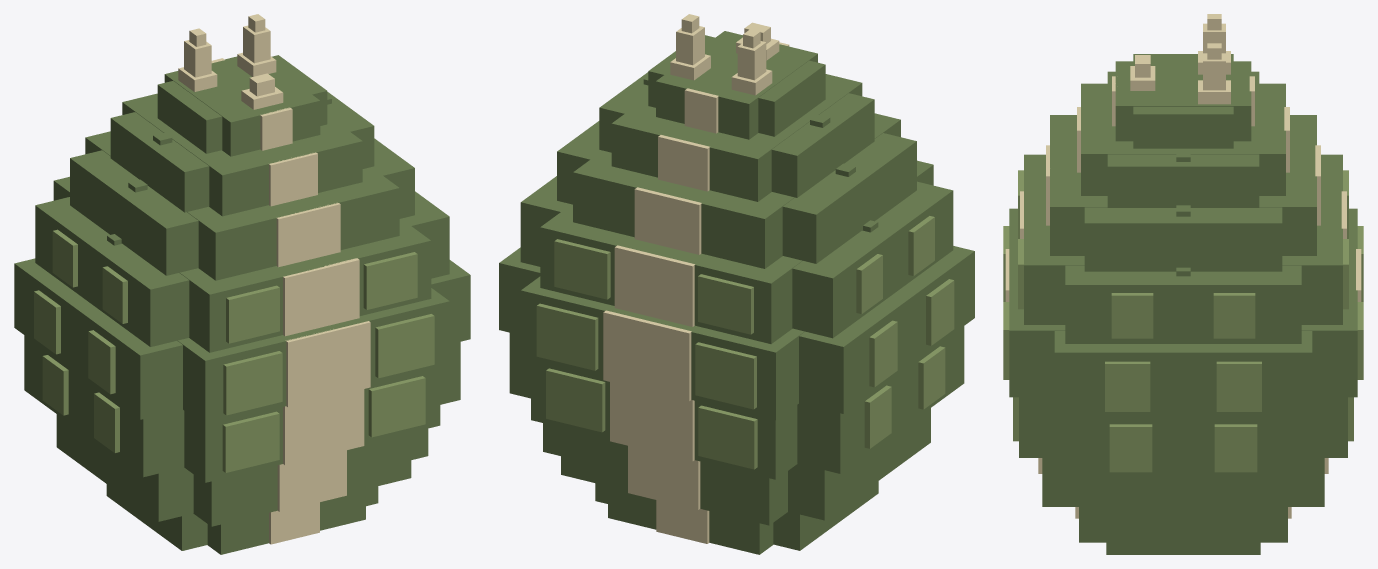
Rendered from TriceratopsEgg.fbx.
The picture shows the model from 3 angles, left to right: view 1: azimuth 30°, elevation 25°; view 2: azimuth 150°, elevation 25°; view 3: azimuth 270°, elevation 25°; orthographic projection. The views are drawn at different scales.
Parts seen in each view (by area): view 1: ShellWide3, ShellWide4, ShellWide5, Shell5, Shell4, Shell6, Shell3, ShellWide2, ShellWide6, Shell1, Shell7, ShellWide1 (+29 smaller); view 2: ShellWide3, ShellWide4, ShellWide5, Shell5, Shell4, Shell6, Shell3, ShellWide2, ShellWide6, Shell1, Belly3_-1, Shell7 (+28 smaller); view 3: ShellWide3, ShellWide4, ShellWide5, ShellWide2, Shell4, ShellWide1, Shell5, Shell3, ShellWide6, Shell6, Shell7, Shell2 (+16 smaller).
Boxes of the visible parts, box(x1,y1,x2,y2) form: ShellWide3: box(14, 258, 470, 419); ShellWide4: box(35, 191, 449, 346); ShellWide5: box(70, 138, 414, 275); Shell5: box(85, 131, 399, 280); Shell4: box(53, 176, 431, 352); Shell6: box(122, 93, 362, 216); Shell3: box(177, 288, 449, 425); ShellWide2: box(24, 335, 460, 477); ShellWide6: box(110, 92, 374, 212); Shell1: box(193, 433, 411, 526); Shell7: box(164, 56, 320, 156); ShellWide1: box(56, 414, 428, 521); ShellWide3: box(499, 246, 974, 413); ShellWide4: box(520, 176, 953, 338); ShellWide5: box(557, 121, 916, 263); Shell5: box(573, 113, 900, 268); Shell4: box(540, 160, 933, 343); Shell6: box(611, 74, 862, 201); Shell3: box(521, 276, 804, 420); ShellWide2: box(509, 326, 964, 473); ShellWide6: box(599, 72, 874, 197); Shell1: box(561, 427, 787, 525); Belly3_-1: box(603, 310, 691, 401); Shell7: box(656, 31, 817, 139); ShellWide3: box(1054, 331, 1312, 418); ShellWide4: box(1065, 265, 1301, 343); ShellWide5: box(1084, 207, 1282, 271); ShellWide2: box(1061, 418, 1305, 478); Shell4: box(1024, 154, 1342, 324); ShellWide1: box(1079, 478, 1287, 524); Shell5: box(1050, 115, 1316, 255); Shell3: box(1009, 208, 1357, 397); ShellWide6: box(1107, 71, 1259, 207); Shell6: box(1081, 83, 1285, 195); Shell7: box(1115, 61, 1251, 141); Shell2: box(1019, 397, 1347, 457).
Bounding box in the file's own units: 208 × 271 × 186.
